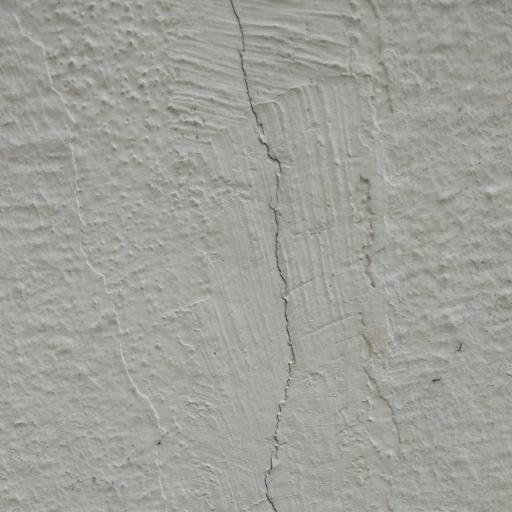minor_crack: (201, 3, 301, 512)
